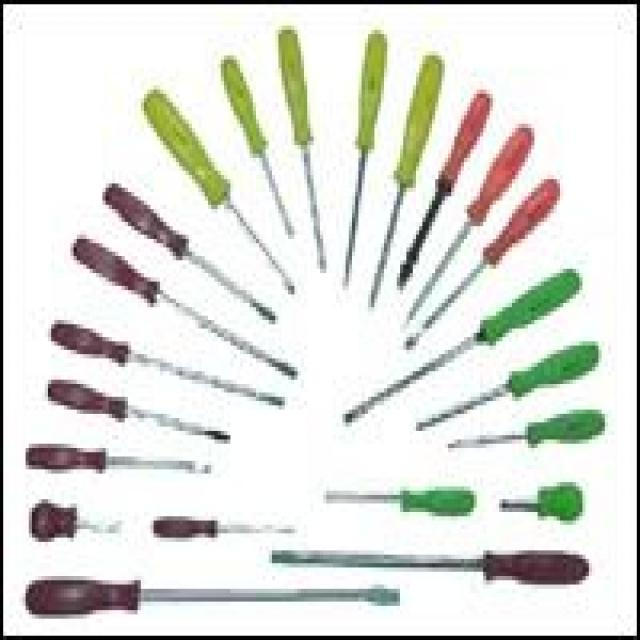Screwdriver: (337, 257, 590, 439), (61, 221, 296, 394), (134, 66, 303, 302), (96, 160, 284, 357), (397, 107, 540, 326), (40, 313, 279, 429), (354, 48, 454, 311), (423, 174, 566, 339), (203, 39, 309, 255), (391, 83, 496, 300), (407, 332, 609, 441), (263, 17, 339, 274), (23, 574, 407, 622), (39, 368, 231, 457), (18, 419, 218, 500), (265, 541, 592, 588), (332, 18, 389, 286), (447, 402, 611, 458), (314, 476, 480, 520), (25, 490, 131, 552), (144, 504, 296, 546), (490, 474, 598, 527)
